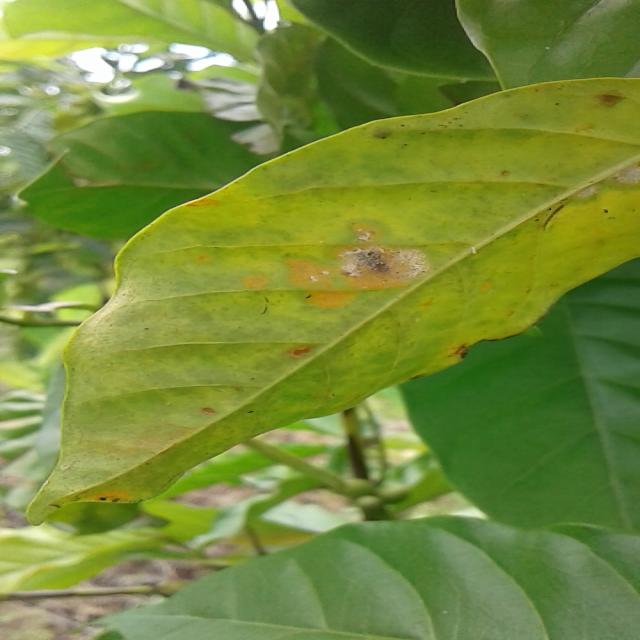Enfermedad-Roya: (24, 76, 640, 535)
